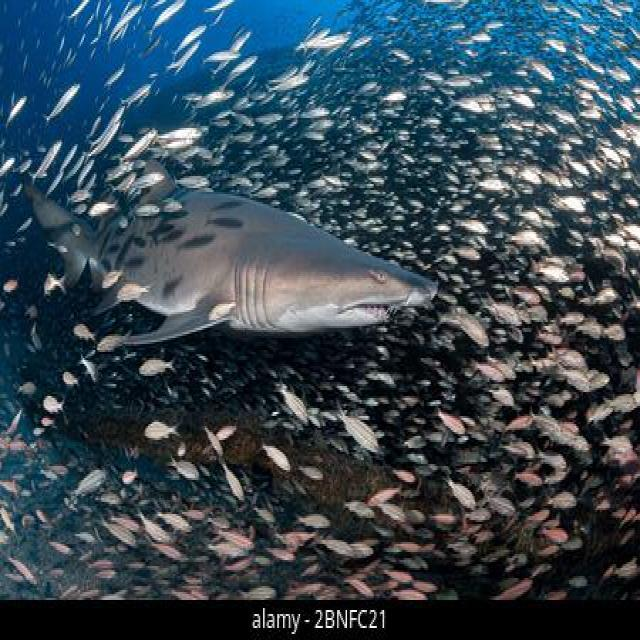Shark: (37, 66, 444, 368)
